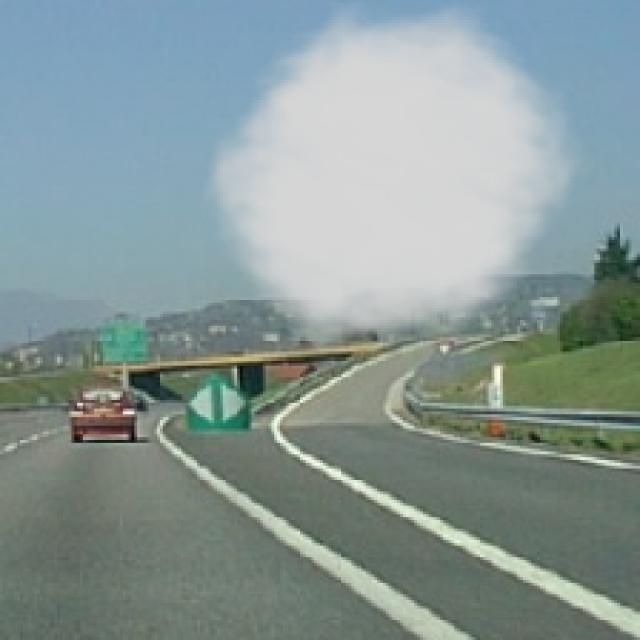smoke: (192, 3, 592, 360)
